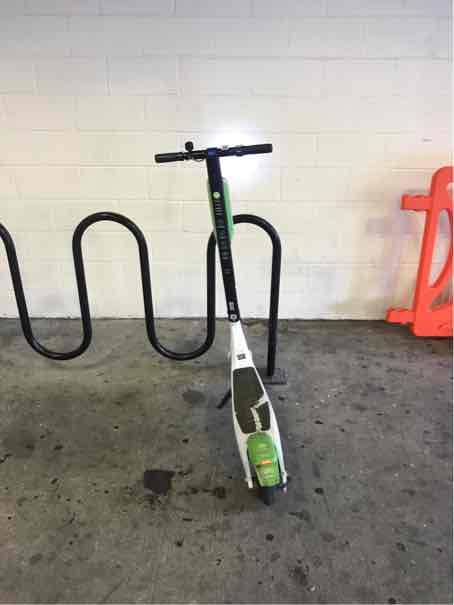scooter: (145, 124, 312, 507)
